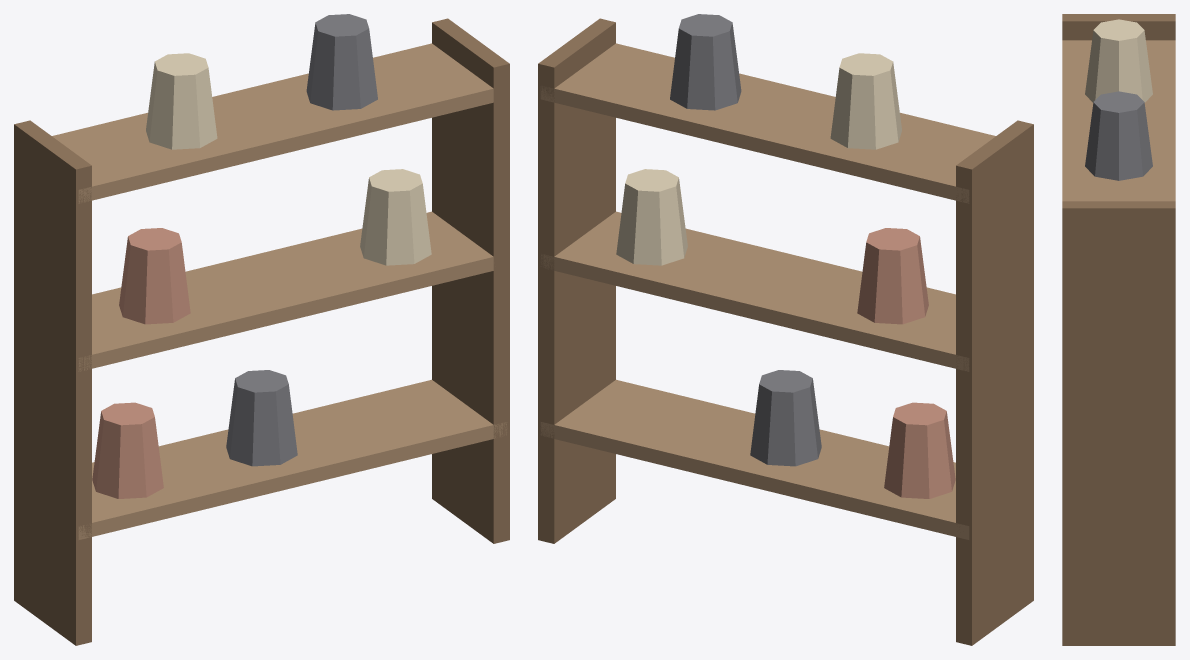
Rendered from pot_shelf.glb.
The picture shows the model from 3 angles, left to right: view 1: azimuth 30°, elevation 25°; view 2: azimuth 150°, elevation 25°; view 3: azimuth 270°, elevation 25°; orthographic projection. The views are drawn at different scales.
Parts seen in each view (by area): view 1: pot_shelf; view 2: pot_shelf; view 3: pot_shelf.
Boxes of the visible parts, x1,y1,x2,y2 form: pot_shelf: (14,14,509,645); pot_shelf: (538,14,1033,645); pot_shelf: (1062,14,1175,645).
Bounding box in the file's own units: 1.62 × 1.88 × 0.3999.
